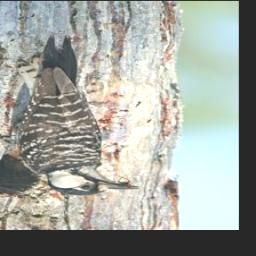Woodpecker: (0, 31, 142, 197)
